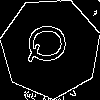Q: (26, 23, 75, 64)
